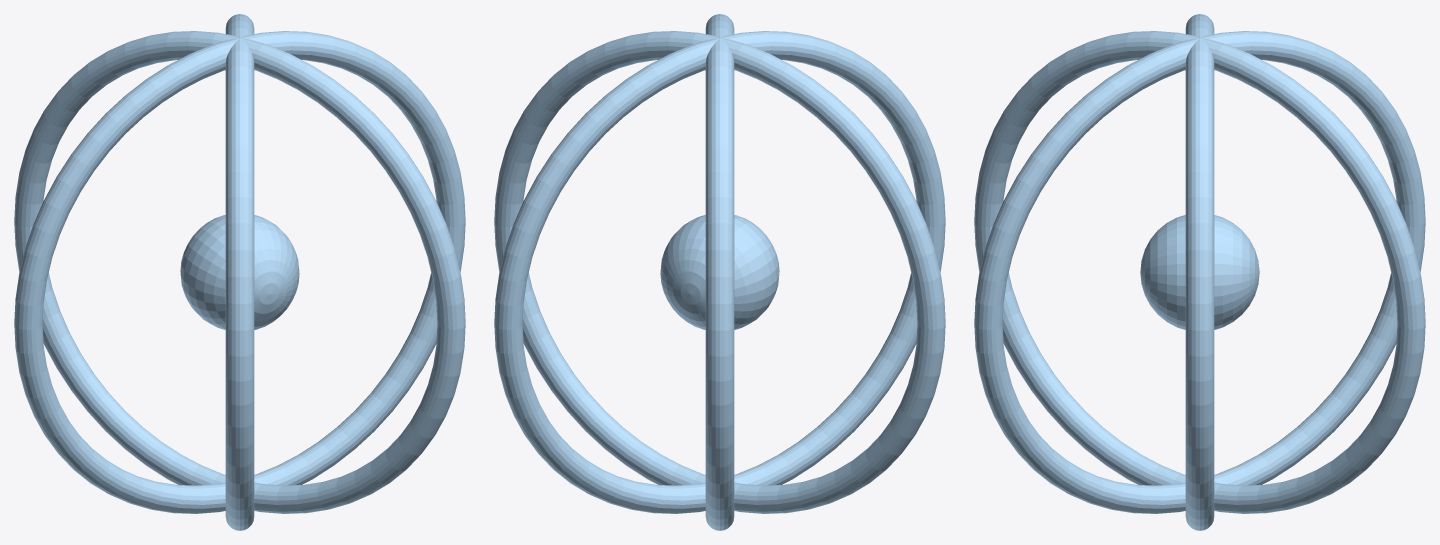
File: react.glb
The picture shows the model from 3 angles, left to right: view 1: azimuth 30°, elevation 25°; view 2: azimuth 150°, elevation 25°; view 3: azimuth 270°, elevation 25°; orthographic projection.
Parts seen in each view (by area): view 1: react; view 2: react; view 3: react.
Boxes of the visible parts, x1=… form: react: x1=14, y1=14, x2=465, y2=530; react: x1=494, y1=14, x2=945, y2=530; react: x1=974, y1=14, x2=1425, y2=530.
Size of the model in its own units: 2.54 by 2.54 by 2.22.
